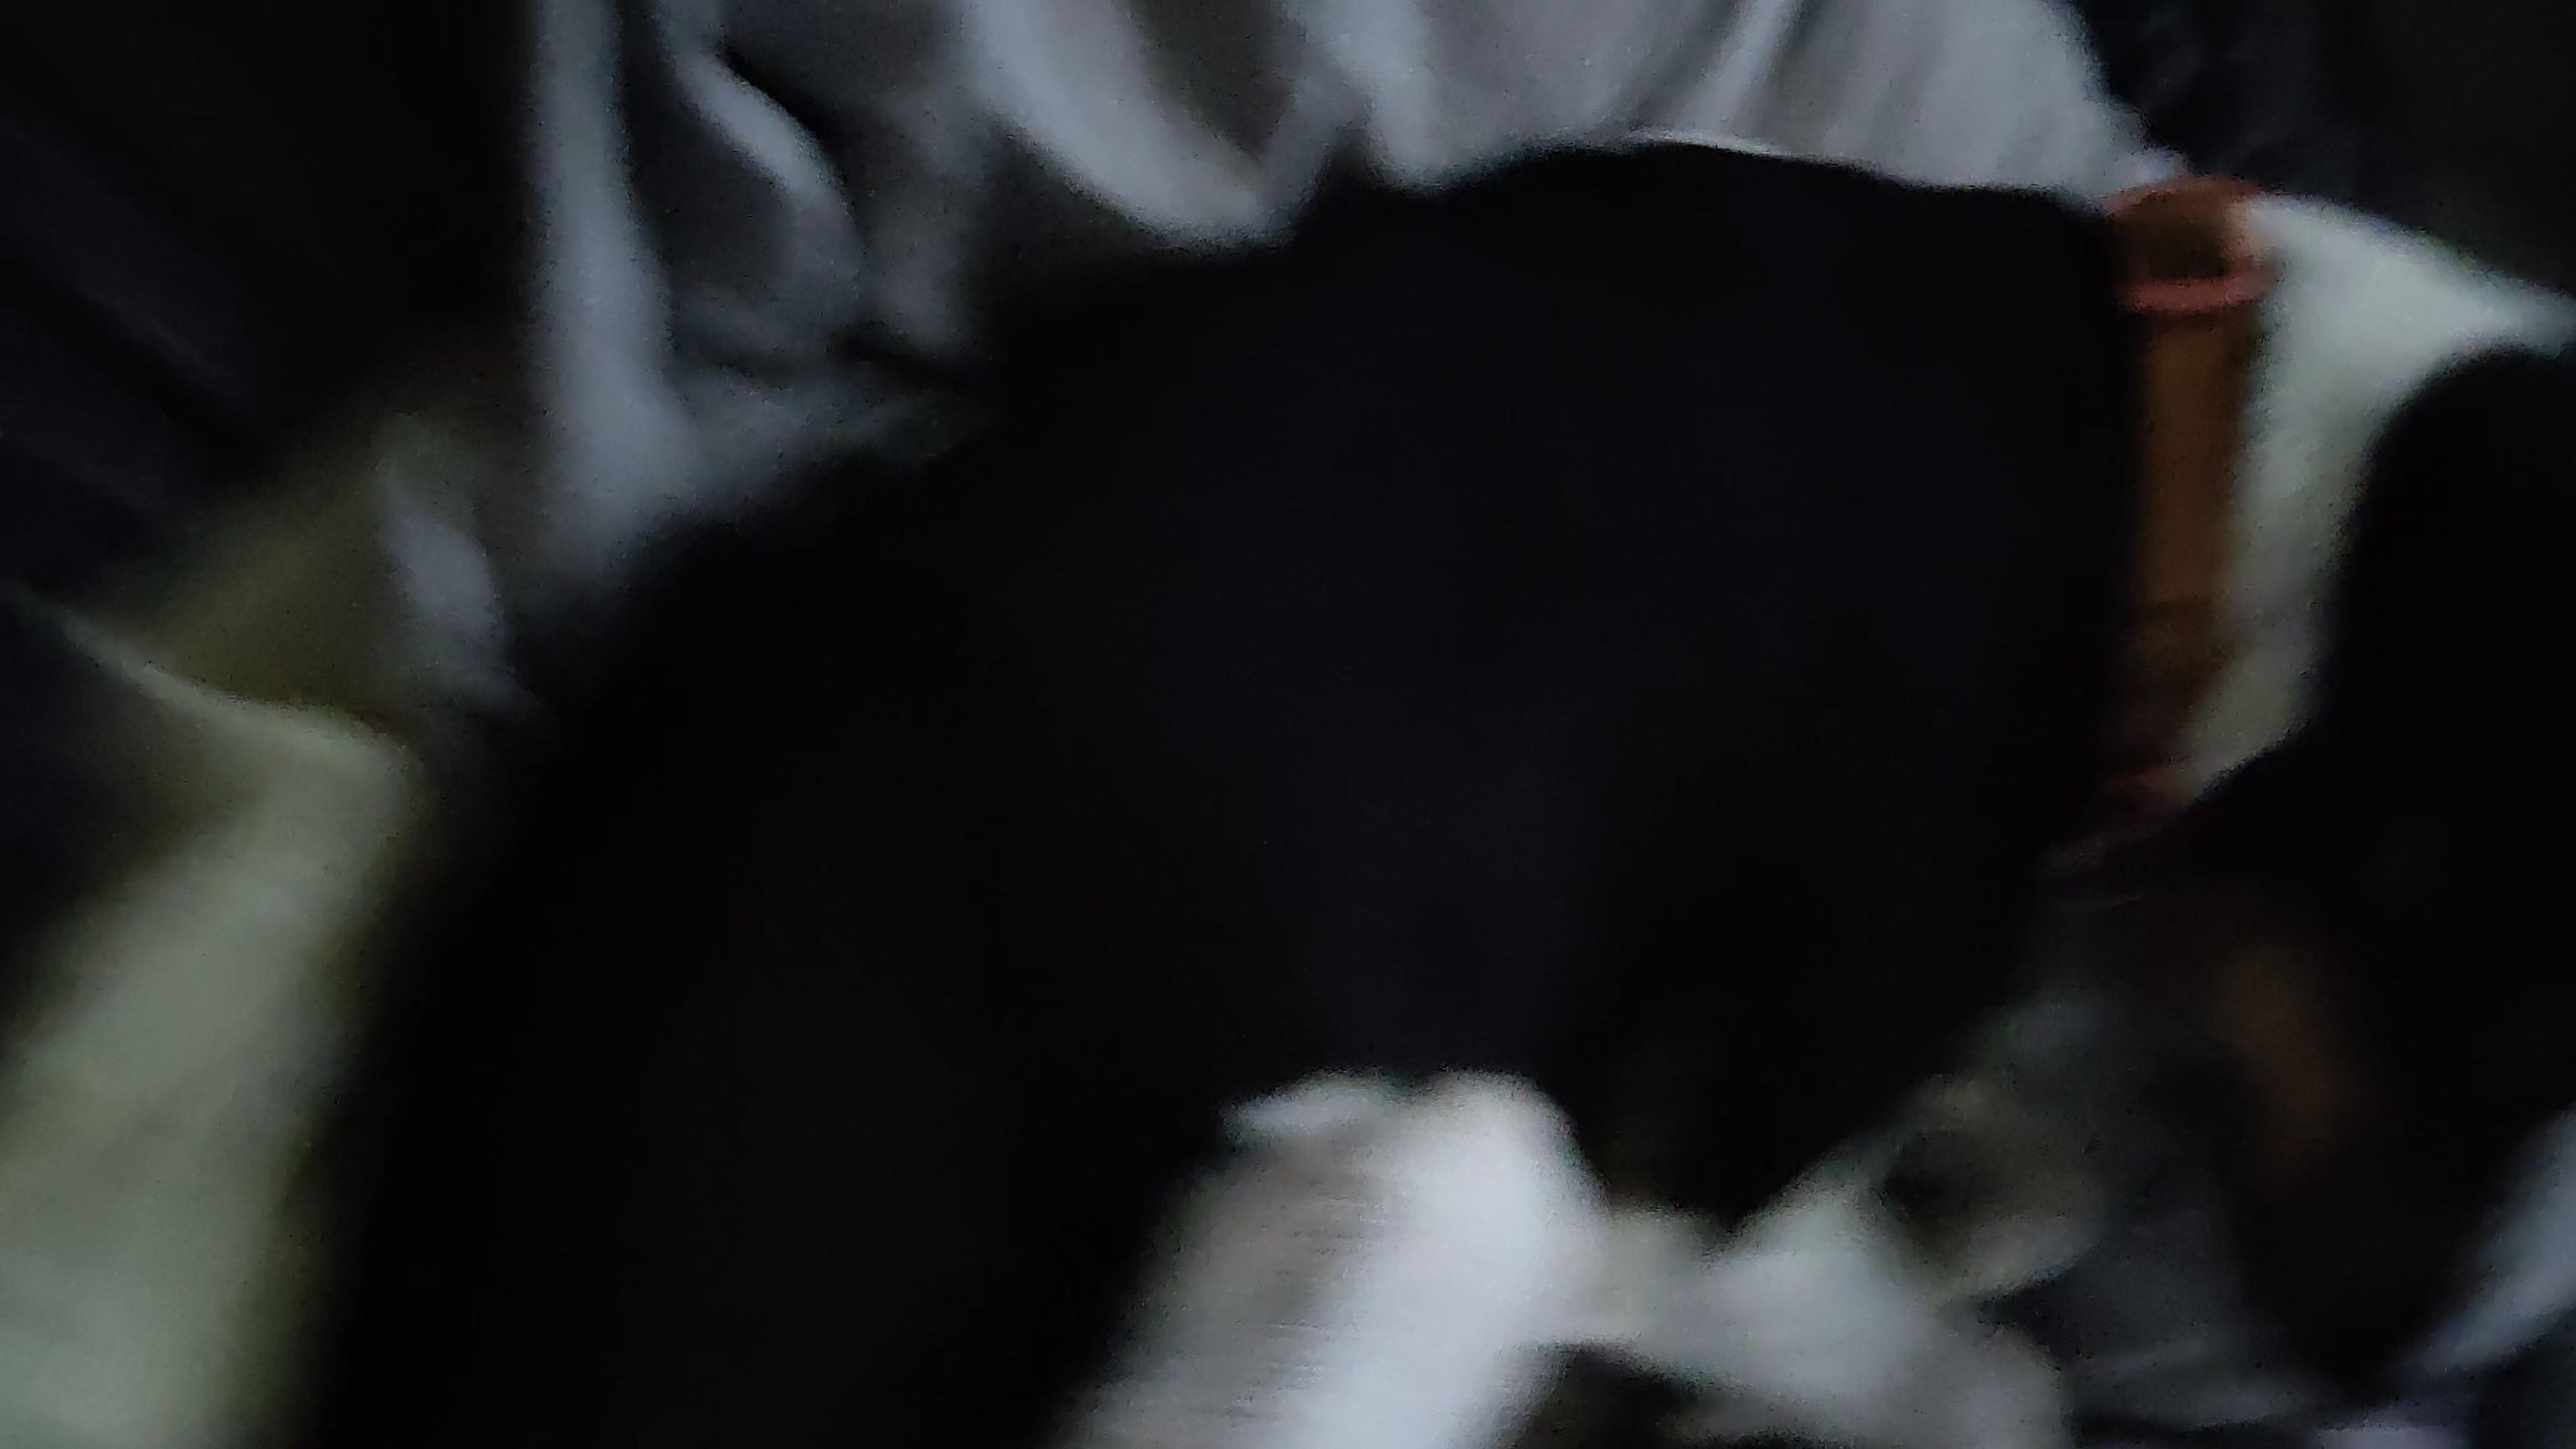Dog: (264, 113, 2576, 1449)
